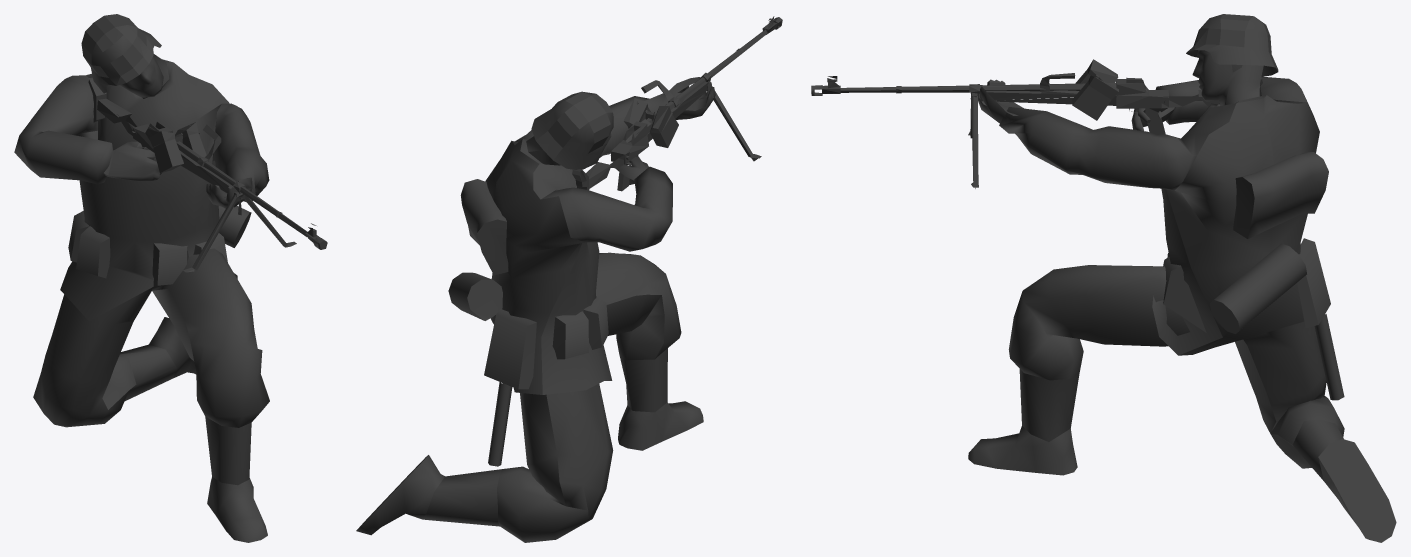
File: de_mg_acc.glb
The picture shows the model from 3 angles, left to right: view 1: azimuth 30°, elevation 25°; view 2: azimuth 150°, elevation 25°; view 3: azimuth 270°, elevation 25°; orthographic projection. The views are drawn at different scales.
Parts seen in each view (by area): view 1: German_Anti_Tank_Team.000_German_Anti_Tank_Team.003_2; view 2: German_Anti_Tank_Team.000_German_Anti_Tank_Team.003_2; view 3: German_Anti_Tank_Team.000_German_Anti_Tank_Team.003_2.
Part boxes in pixels (x1,y1,x2,y2): German_Anti_Tank_Team.000_German_Anti_Tank_Team.003_2: (14,14,327,542); German_Anti_Tank_Team.000_German_Anti_Tank_Team.003_2: (356,16,782,542); German_Anti_Tank_Team.000_German_Anti_Tank_Team.003_2: (811,14,1396,542).
Size of the model in its own units: 0.2333 by 0.387 by 0.4573.
Materials: 1 (1 with a texture image).
